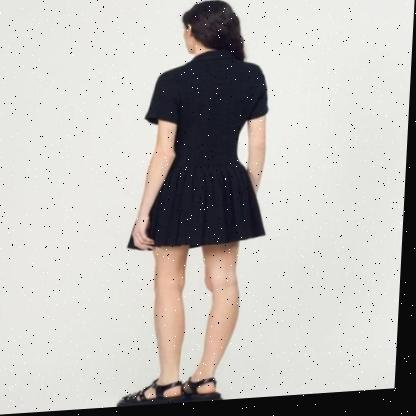person: (114, 0, 277, 407)
